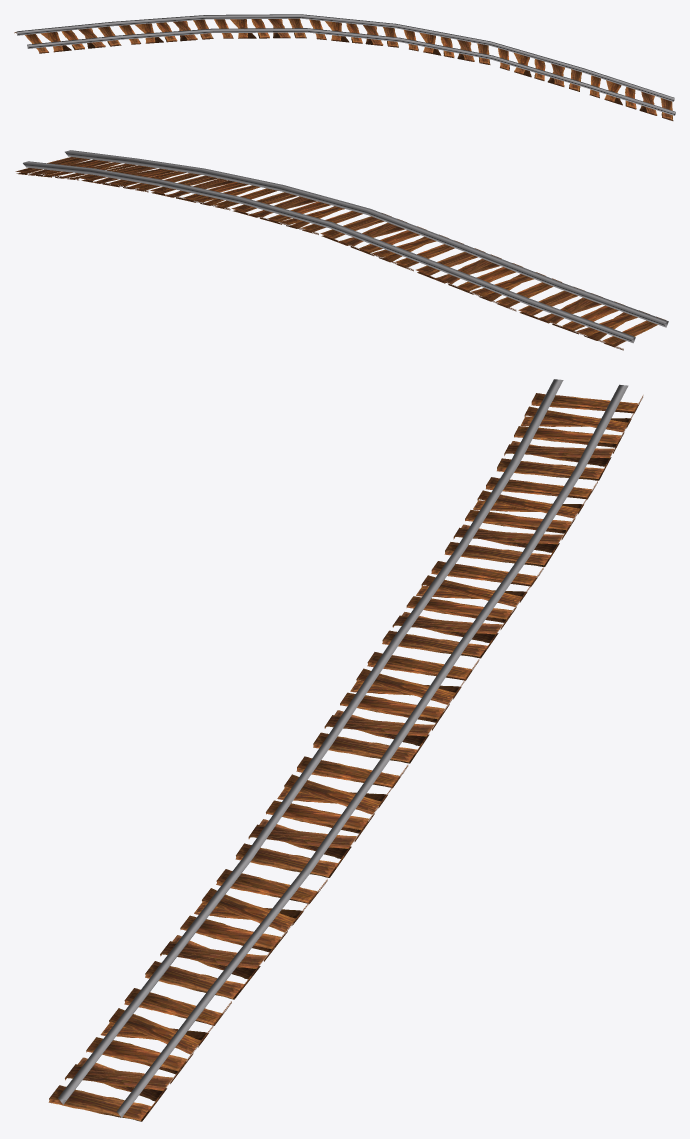
Rendered from SWORDLIGHT20_MAIN1RAILS1CENTER.fbx.
3 views of the same model, one above another, from view 1: azimuth 30°, elevation 25°; view 2: azimuth 150°, elevation 25°; view 3: azimuth 270°, elevation 25° (orthographic). The views are drawn at different scales.
Visible parts, largest first — view 1: SWORDLIGHT20_MAIN1RAILS1CENTER; view 2: SWORDLIGHT20_MAIN1RAILS1CENTER; view 3: SWORDLIGHT20_MAIN1RAILS1CENTER.
Part boxes in pixels (<box>): SWORDLIGHT20_MAIN1RAILS1CENTER: <box>14,14,675,120</box>; SWORDLIGHT20_MAIN1RAILS1CENTER: <box>15,150,668,350</box>; SWORDLIGHT20_MAIN1RAILS1CENTER: <box>48,379,643,1121</box>.
Size of the model in its own units: 193351 by 37180 by 92120.
Materials: 2 (2 with a texture image).
